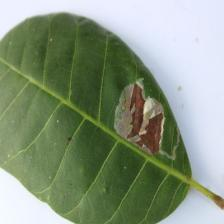leaf miner: (105, 68, 171, 163)
